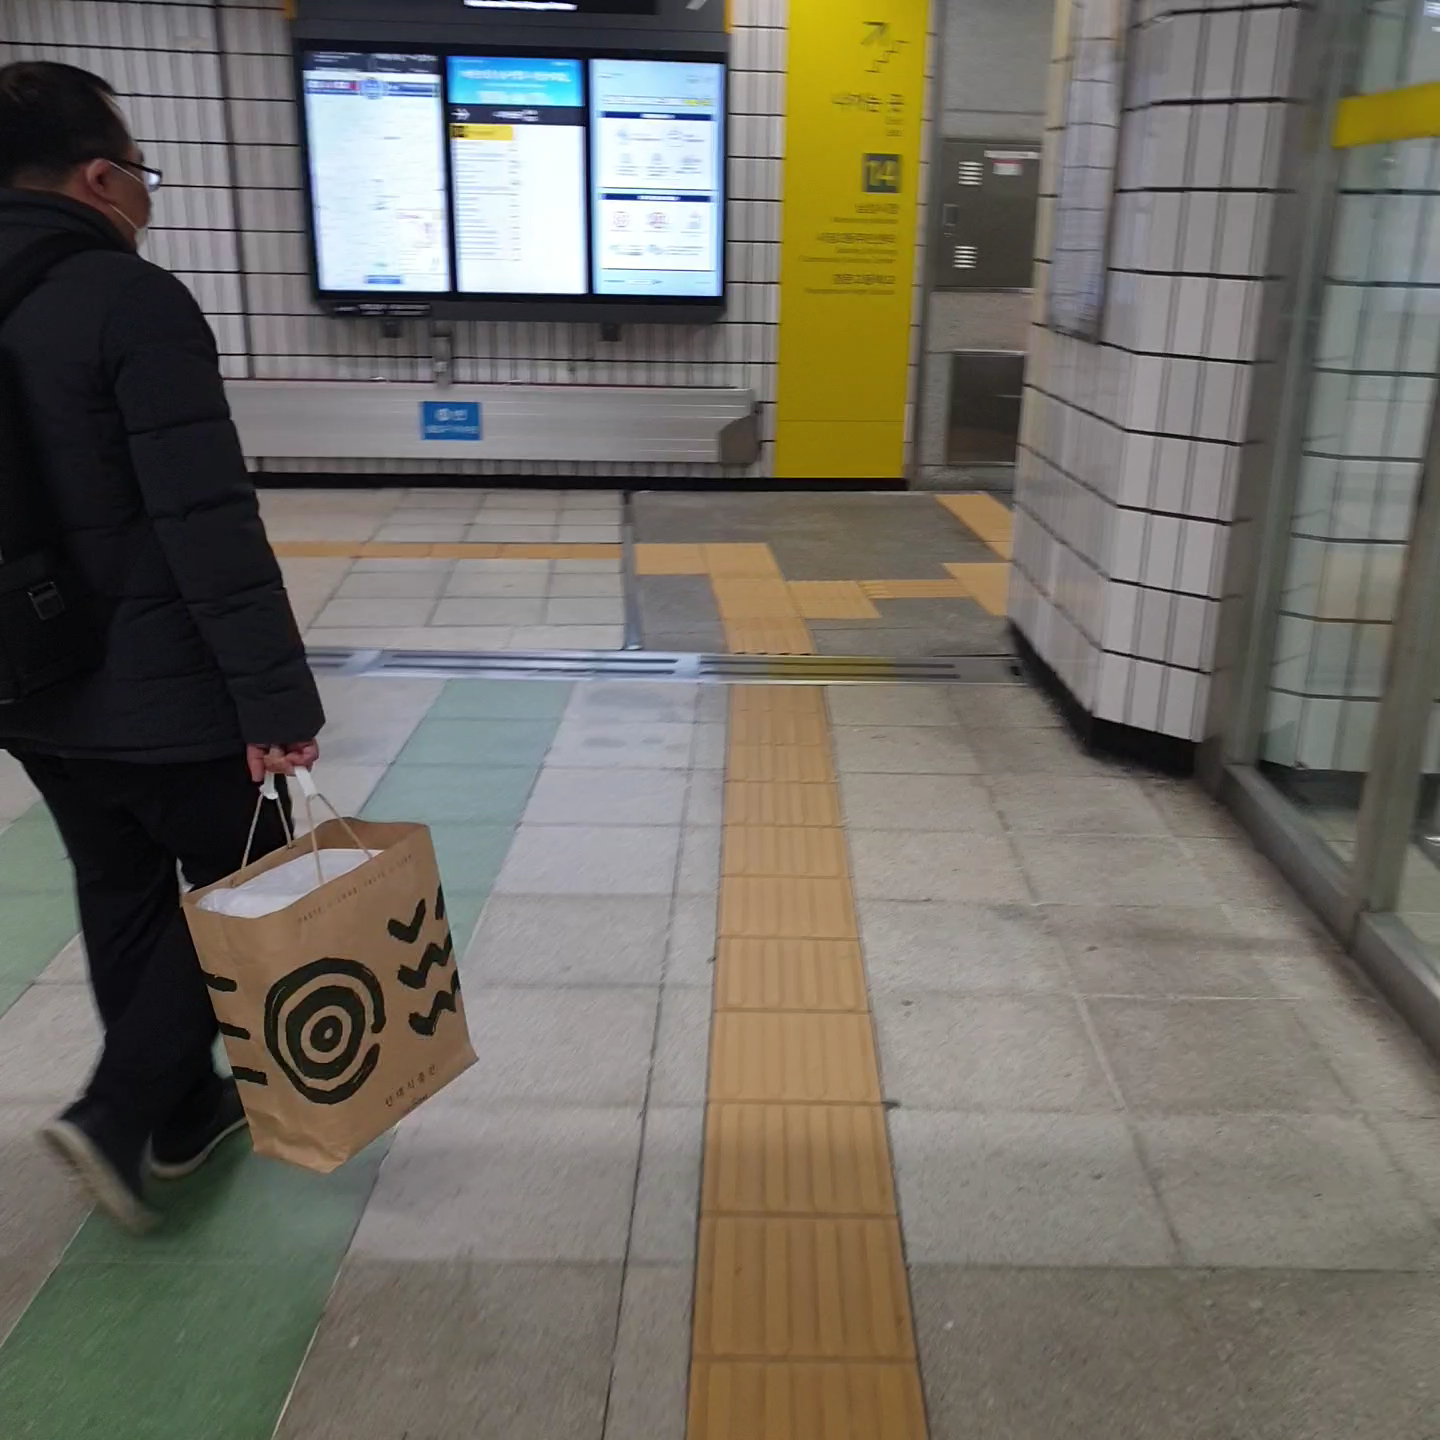line: (694, 1215, 907, 1362), (703, 1097, 886, 1217), (715, 1009, 877, 1105), (709, 933, 870, 1018), (716, 824, 852, 881), (724, 880, 853, 938), (716, 742, 841, 786), (727, 781, 841, 826)
person: (1, 53, 300, 1215)
